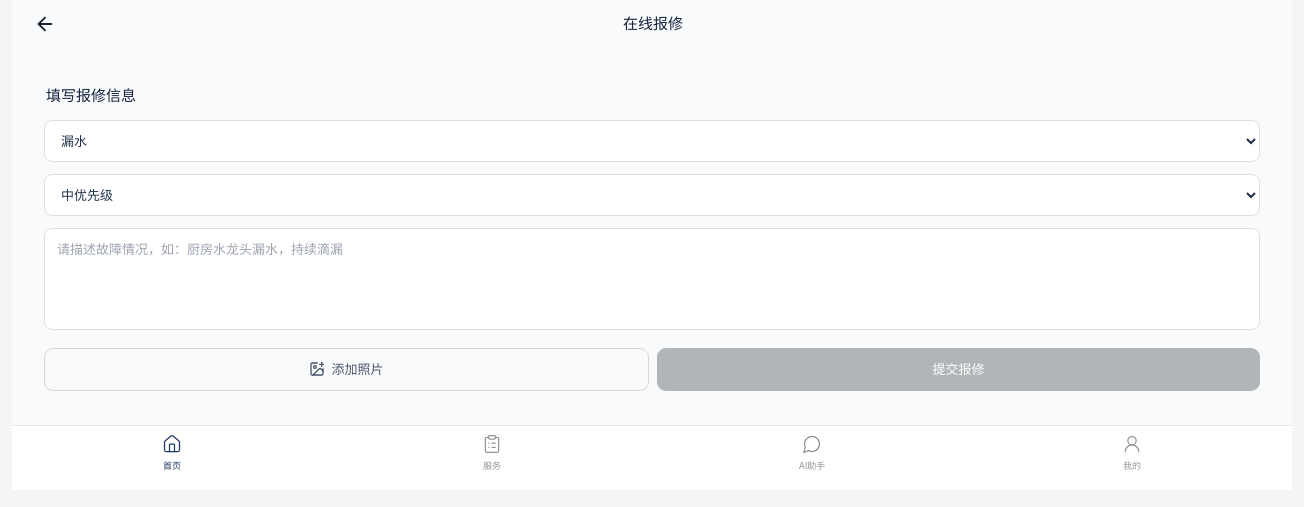
Test: OwnerRepairForm › shows success state after submit
Type "灯泡不亮" into the text box with placeholder "请描述故障情况，如：厨房水龙头漏水，持续滴漏" at (652, 278), box [44, 228, 1260, 330]
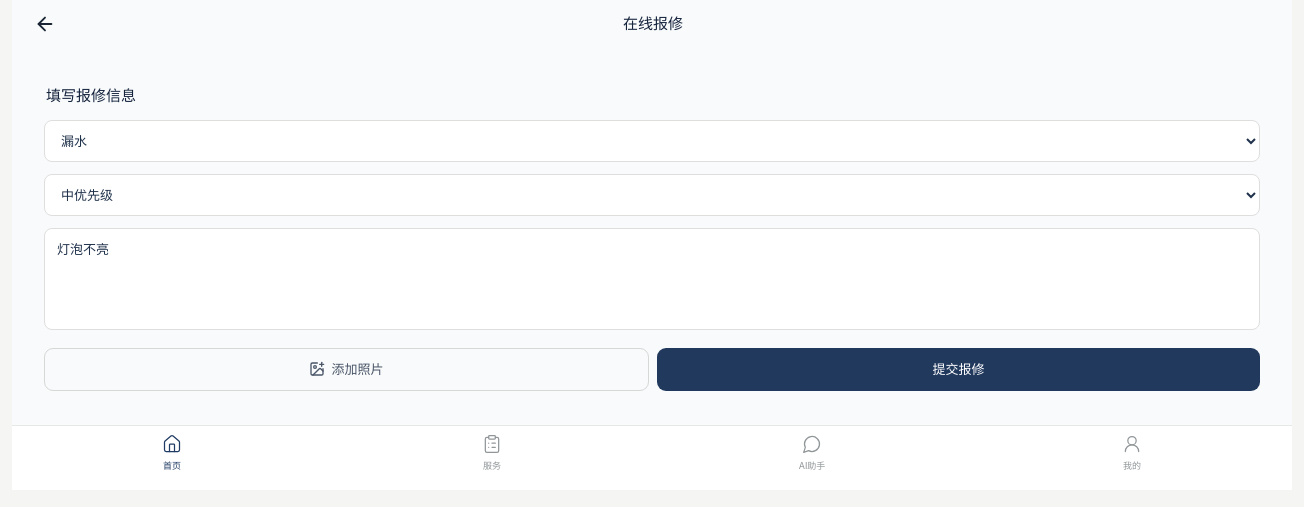
Click the button "提交报修" at (958, 369), box [657, 348, 1260, 391]
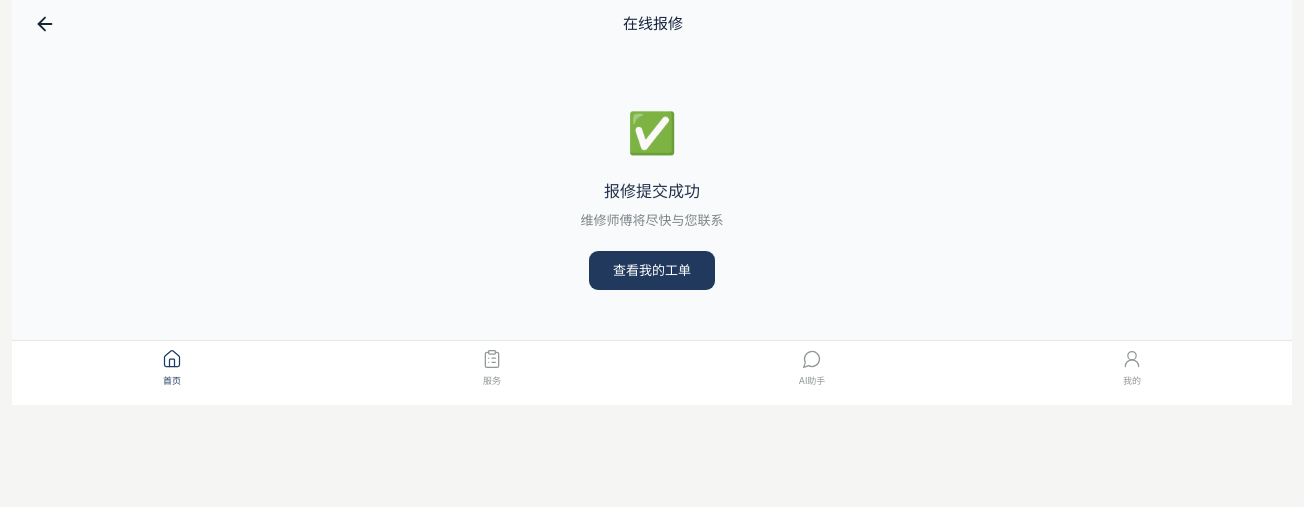
Now the text "报修提交成功" is shown, box [604, 181, 700, 201]
